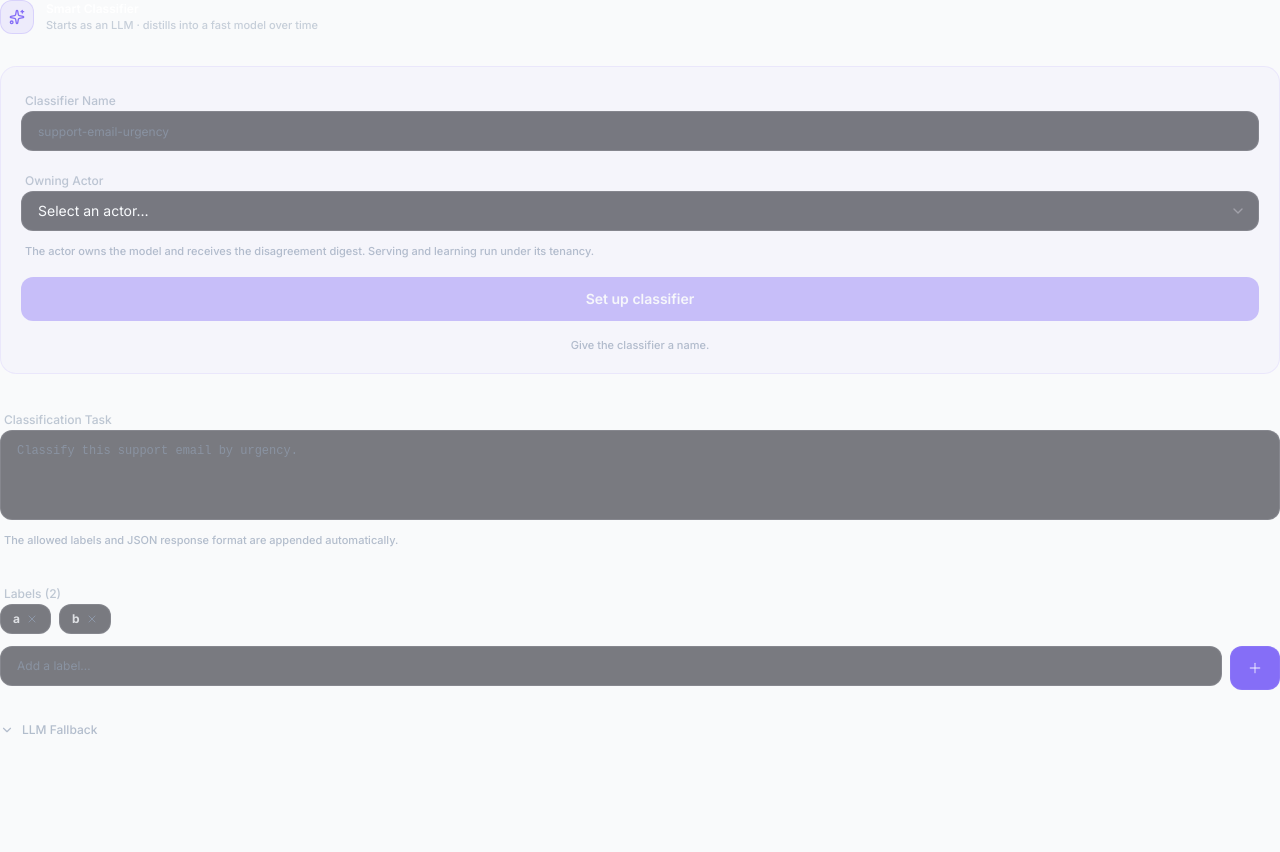
SmartClassifierConfig affordances › requires the explicit egress acknowledgment for an external provider
Type "clf" into the field with placeholder "support-email-urgency". click: (640, 131)
box: x1=21 y1=111 x2=1259 y2=151
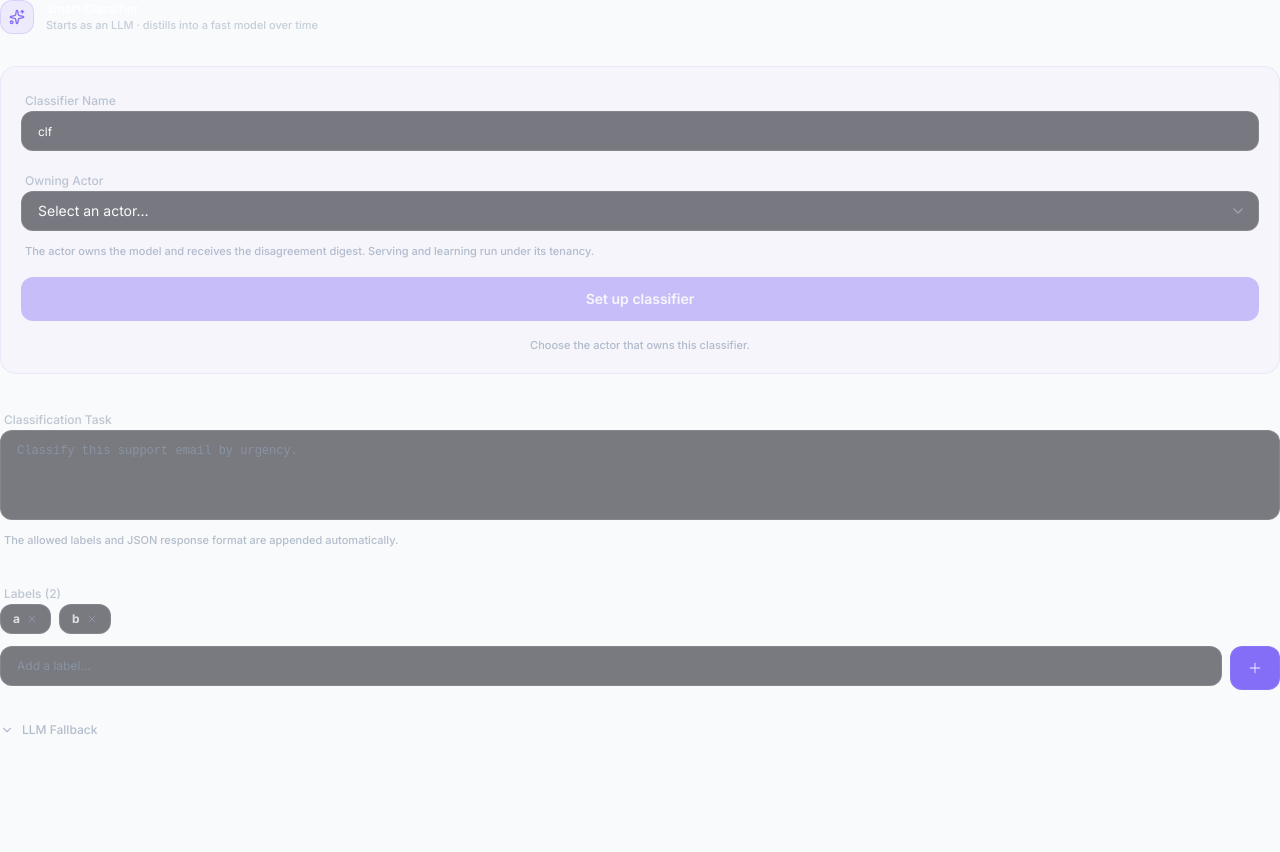
Select "personal-assistant" in the dropdown. click: (640, 211)
box: x1=21 y1=191 x2=1259 y2=231
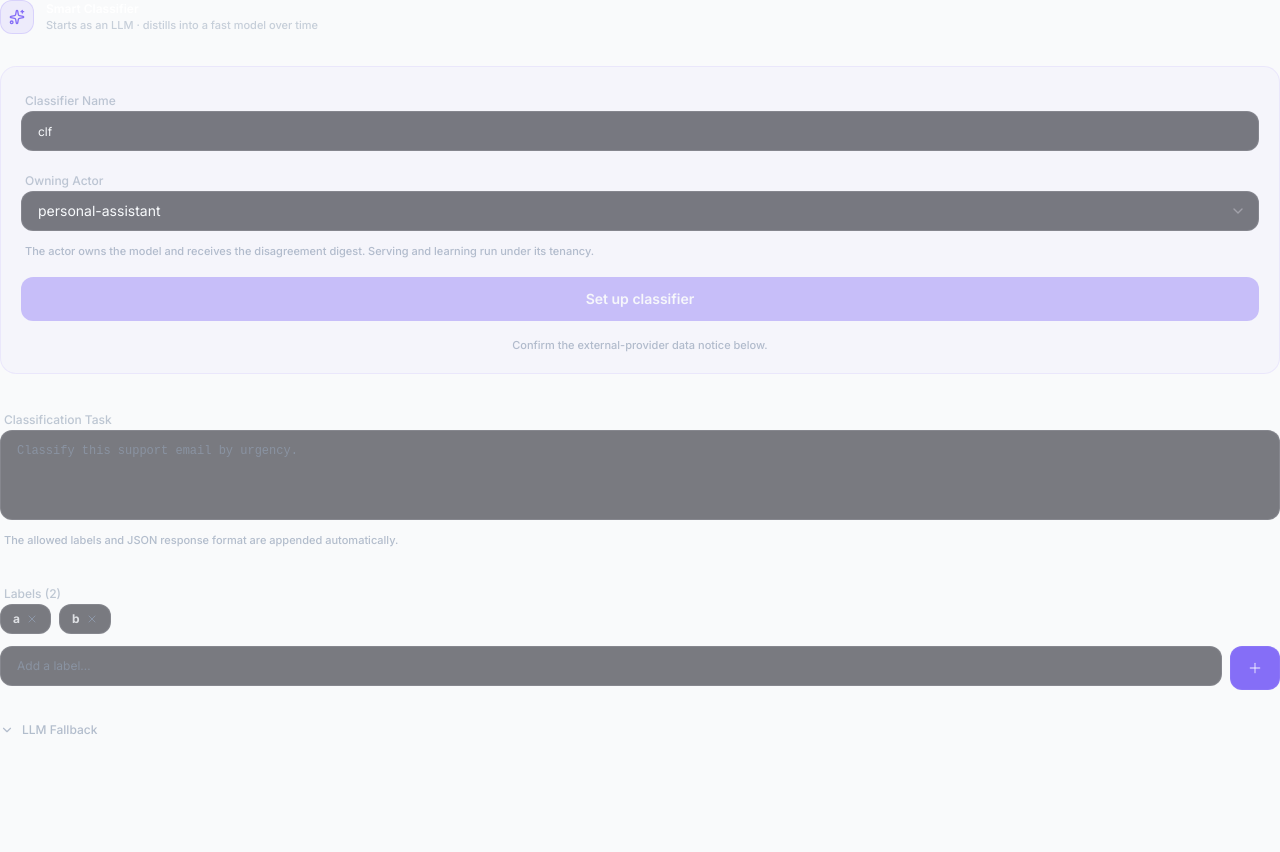
# Open the advanced section to reach the acknowledgment.
Click the button "LLM Fallback". click: (49, 730)
box: x1=0 y1=722 x2=97 y2=738
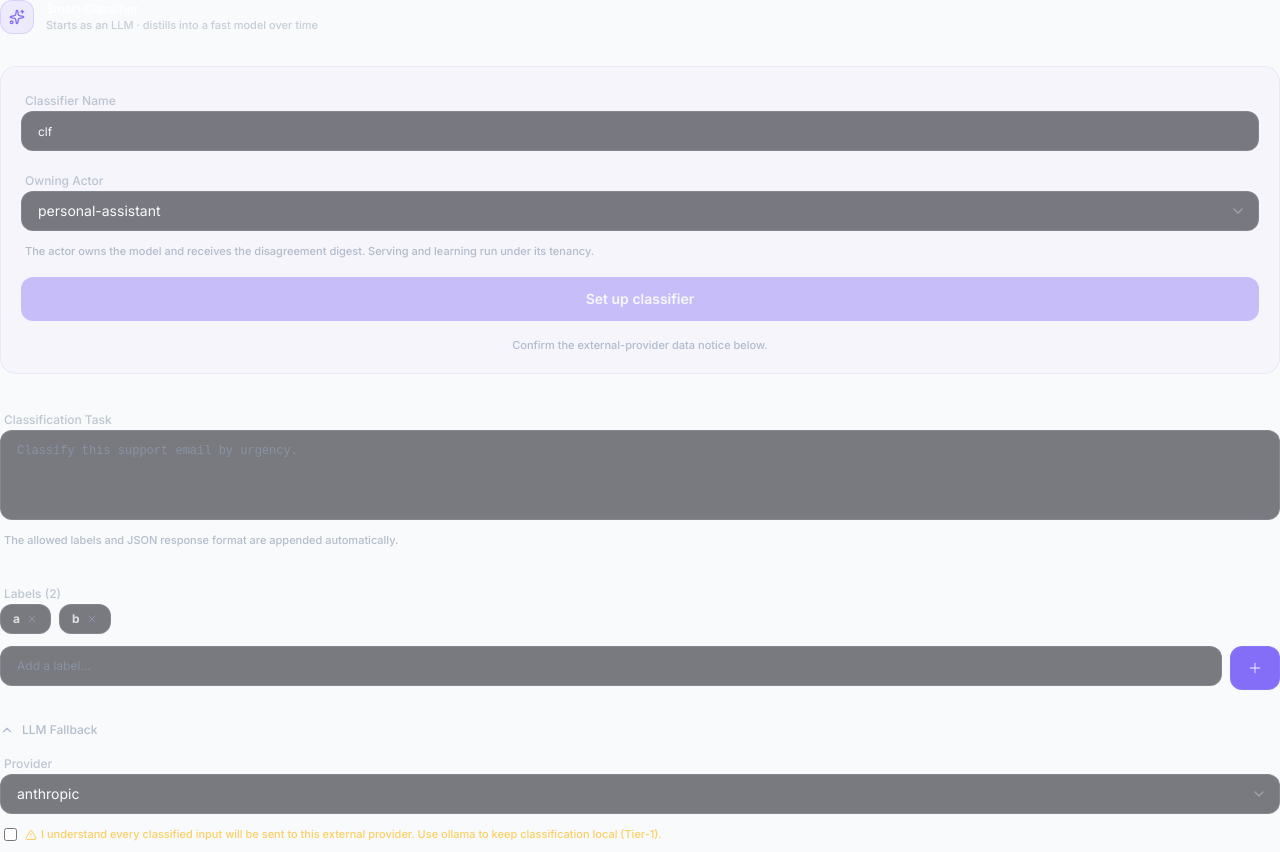
Expected: the button "Set up classifier" is disabled, x1=21 y1=277 x2=1259 y2=321
Expected: the text "Confirm the external-provider data notice below." is shown, x1=512 y1=338 x2=768 y2=352
Click the checkbox named "acknowledge external provider data egress". click: (10, 834)
box: x1=4 y1=828 x2=17 y2=841
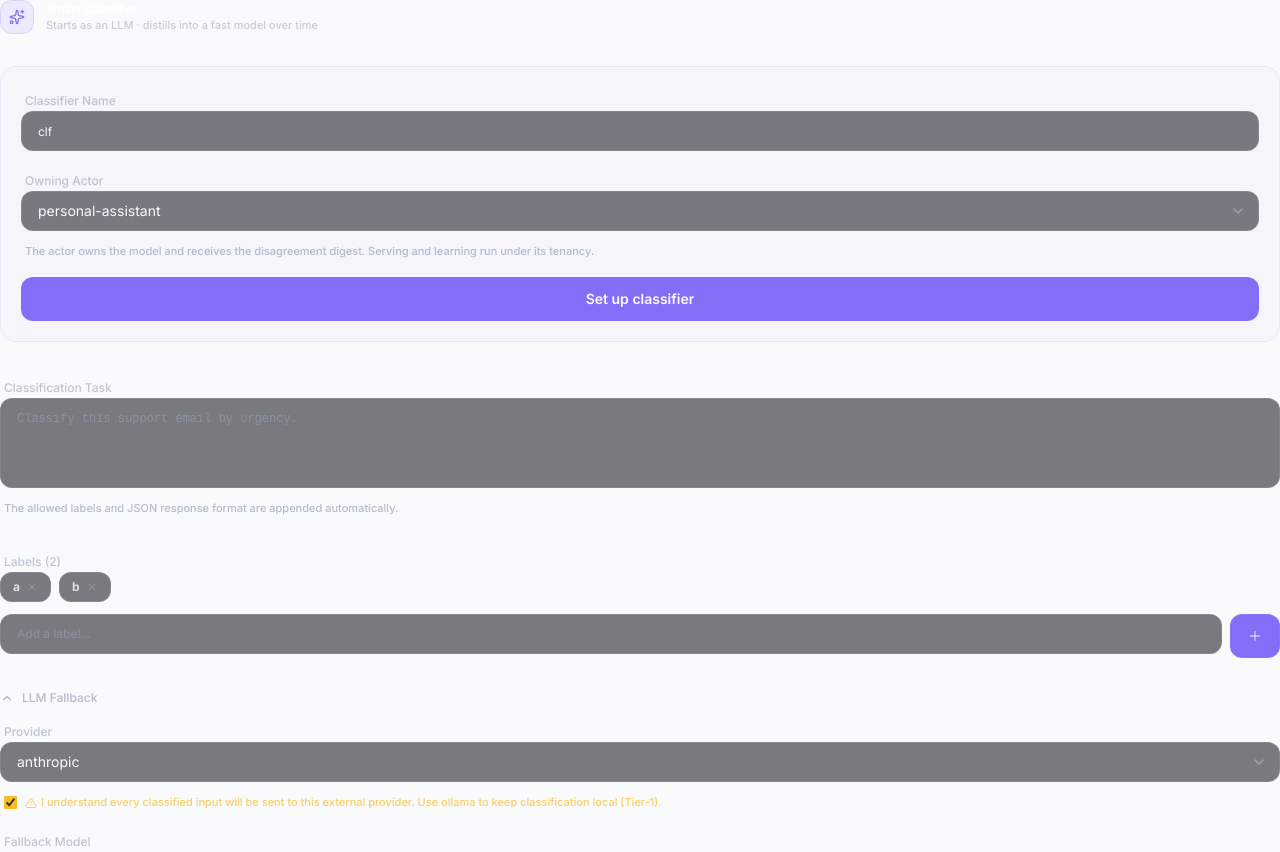
Expected: the button "Set up classifier" is enabled, x1=21 y1=277 x2=1259 y2=321
